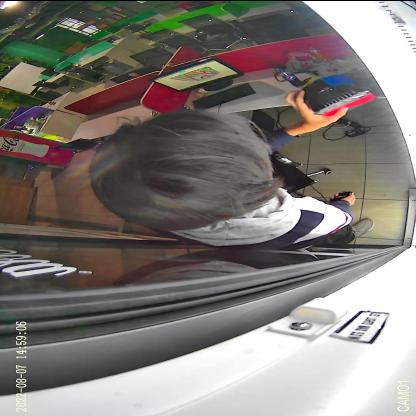blue: (298, 73, 358, 103)
red: (308, 84, 376, 115)
